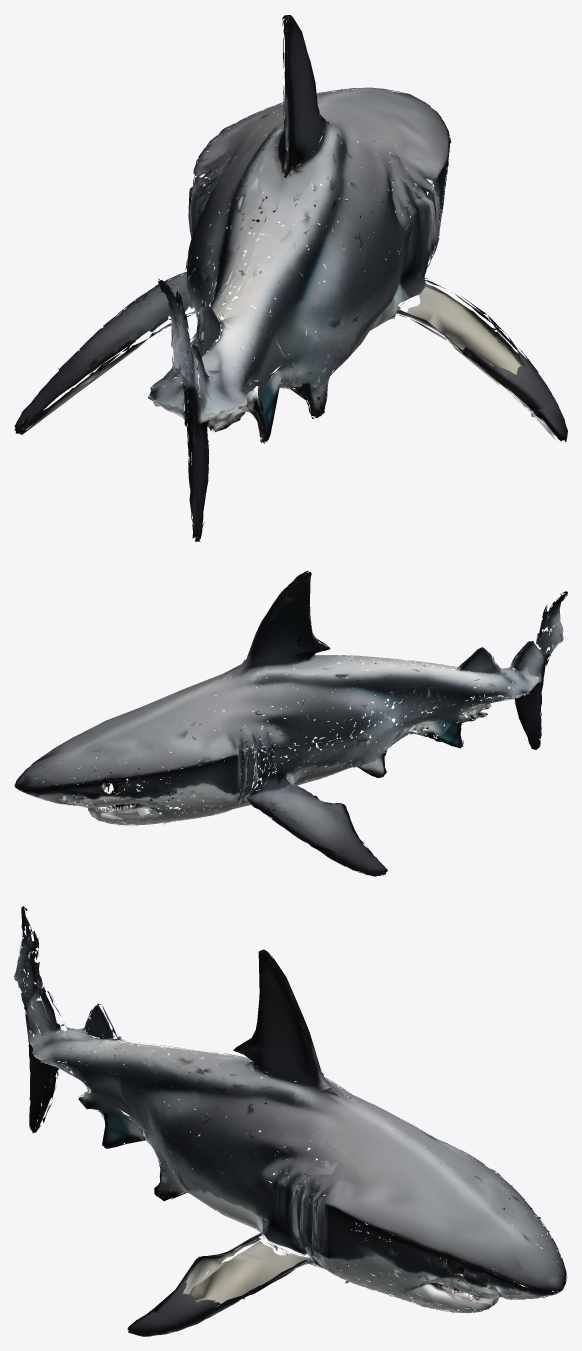
The model's file is shark_1790371520_9719904.glb.
The picture shows the model from 3 angles, top to bottom: view 1: azimuth 30°, elevation 25°; view 2: azimuth 150°, elevation 25°; view 3: azimuth 270°, elevation 25°; orthographic projection. The views are drawn at different scales.
Parts seen in each view (by area): view 1: Hero; view 2: Hero; view 3: Hero.
Part boxes in pixels (x1,y1,x2,y2): Hero: (14, 15, 567, 541); Hero: (14, 570, 567, 876); Hero: (14, 906, 567, 1336).
Bounding box in the file's own units: 2.47 × 1.66 × 2.61.
Materials: 1 (1 with a texture image).
